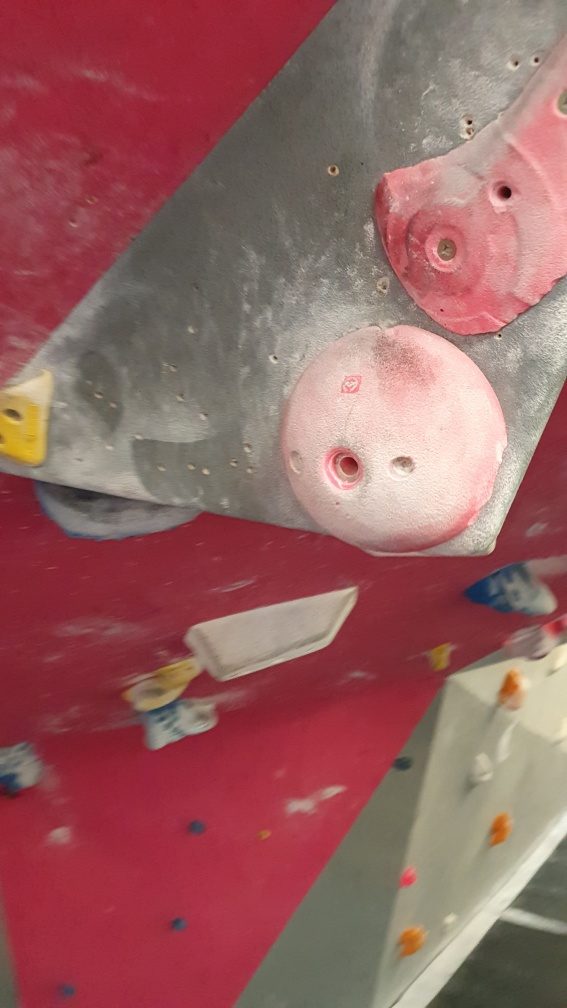Crimp: (374, 20, 567, 345)
Pinch: (179, 590, 360, 685)
Sloper: (277, 319, 509, 556)
